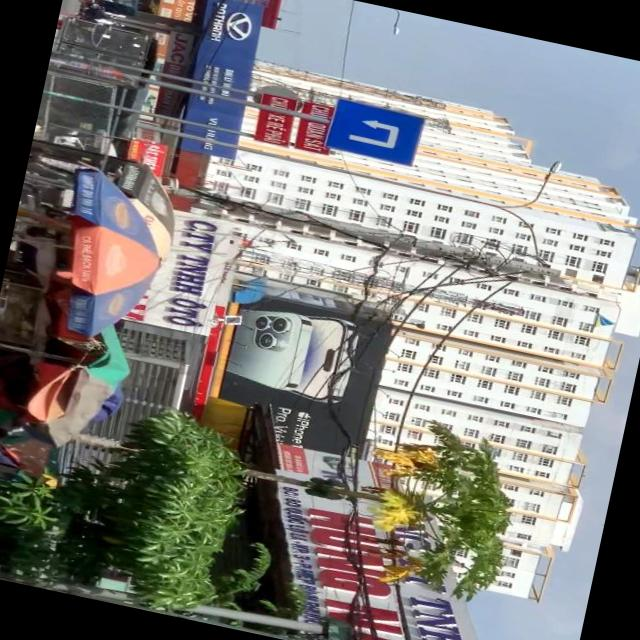I-409: (321, 96, 424, 166)
